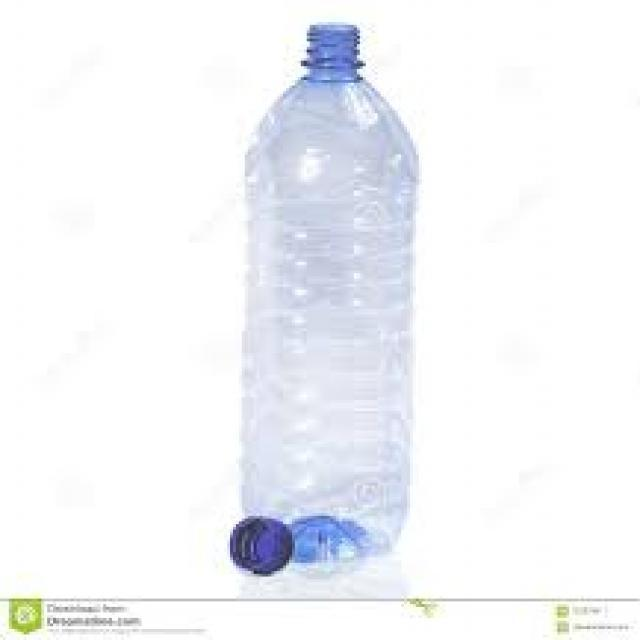Plastic: (242, 24, 412, 550), (230, 506, 292, 577)
